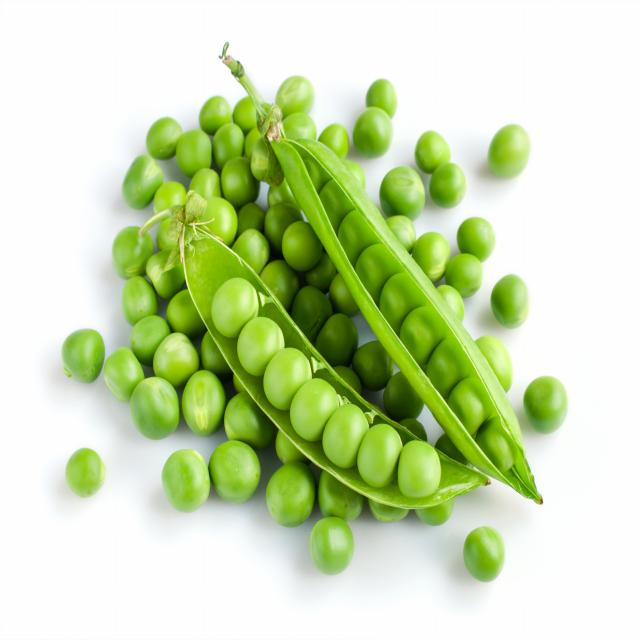pea: (229, 277, 433, 507), (70, 291, 208, 505), (379, 132, 505, 286), (244, 209, 326, 312)
